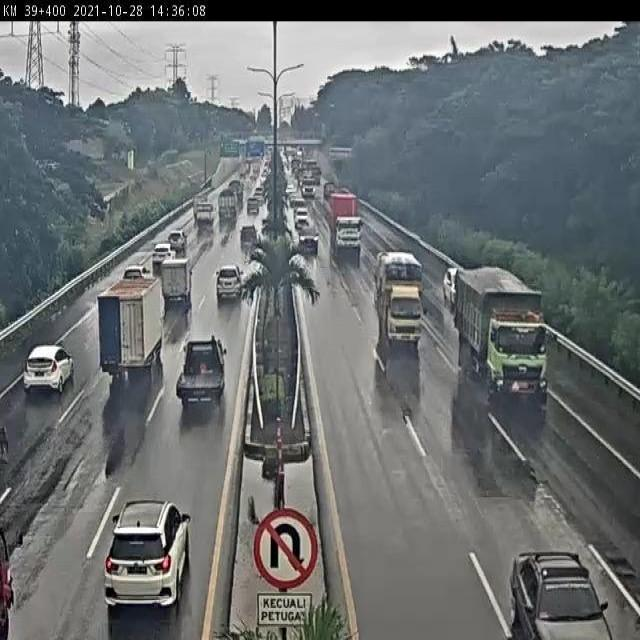big truck: (451, 268, 554, 417), (93, 278, 171, 378), (325, 198, 368, 254)
car: (95, 495, 196, 620), (512, 555, 604, 637), (173, 328, 230, 405), (21, 336, 77, 400), (297, 227, 323, 261), (218, 270, 244, 302), (241, 219, 258, 248), (156, 245, 178, 263), (293, 210, 314, 226), (169, 229, 186, 247), (125, 267, 145, 280)
small truck: (376, 258, 424, 354), (161, 262, 193, 298)
